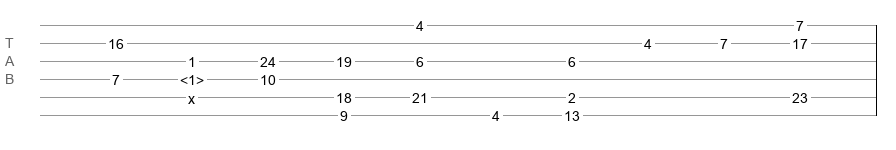1: (188, 54, 196, 64)
10: (260, 72, 276, 82)
13: (564, 108, 580, 118)
16: (108, 36, 124, 46)
17: (792, 36, 808, 46)
18: (336, 90, 352, 100)
19: (336, 54, 352, 64)
2: (568, 90, 576, 100)
21: (412, 90, 428, 100)
23: (792, 90, 808, 100)
24: (260, 54, 276, 64)
4: (416, 18, 424, 28), (492, 108, 500, 118), (644, 36, 652, 46)
6: (416, 54, 424, 64), (568, 54, 576, 64)
7: (112, 72, 120, 82), (720, 36, 728, 46), (796, 18, 804, 28)
9: (340, 108, 348, 118)
harmonic: (180, 72, 204, 82)
x: (188, 91, 195, 99)
